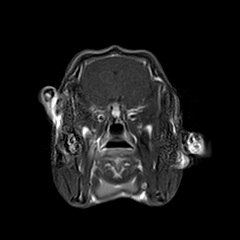Brain: (67, 23, 166, 121)
